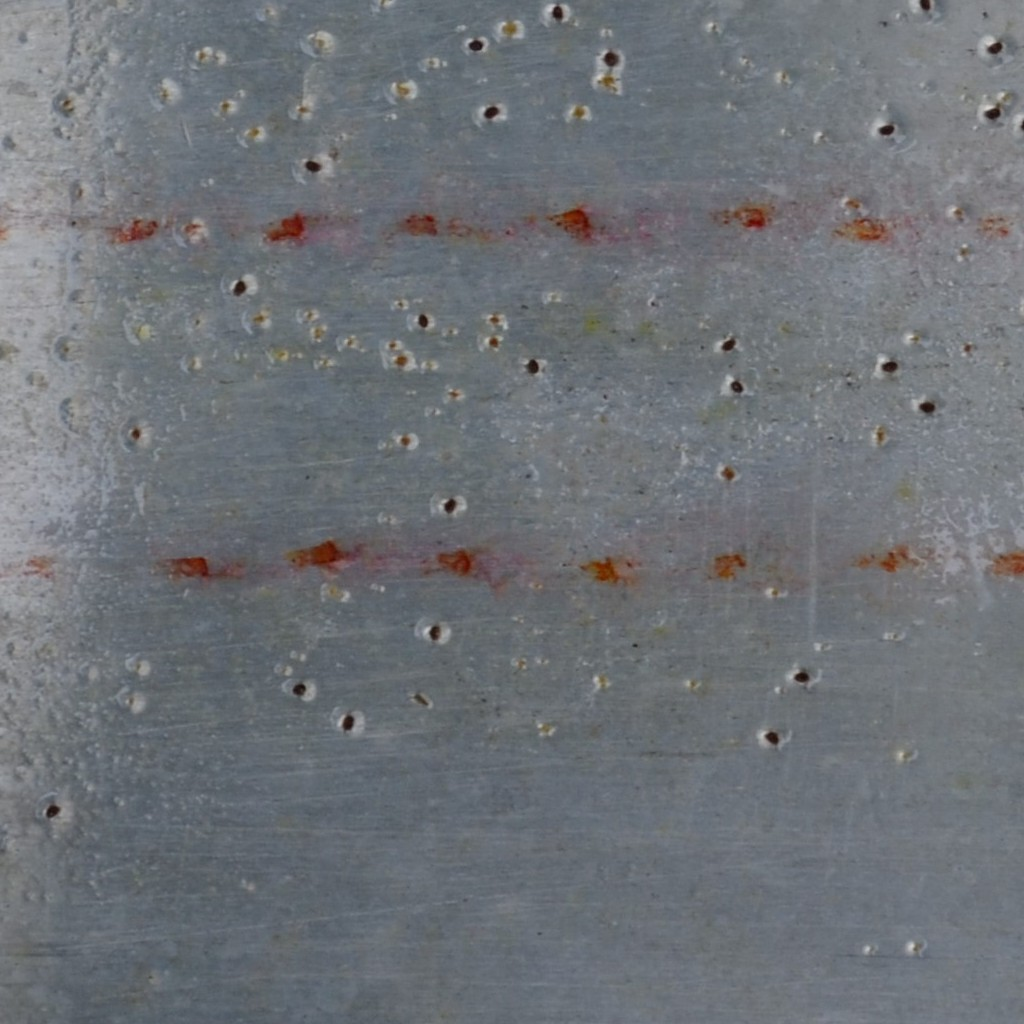varroa: (760, 725, 785, 749), (334, 711, 358, 735), (875, 118, 898, 141), (877, 357, 900, 380), (600, 47, 623, 68), (979, 103, 1004, 122), (522, 356, 543, 378), (414, 308, 436, 329), (481, 101, 502, 122), (125, 424, 146, 445), (915, 398, 937, 418), (728, 376, 750, 396), (426, 619, 444, 643), (466, 34, 487, 54), (229, 277, 249, 297), (791, 668, 813, 686), (719, 335, 738, 355), (304, 157, 324, 175), (45, 802, 63, 822), (985, 39, 1004, 57), (441, 497, 461, 514), (292, 679, 308, 700), (549, 3, 568, 20), (916, 0, 935, 13)
